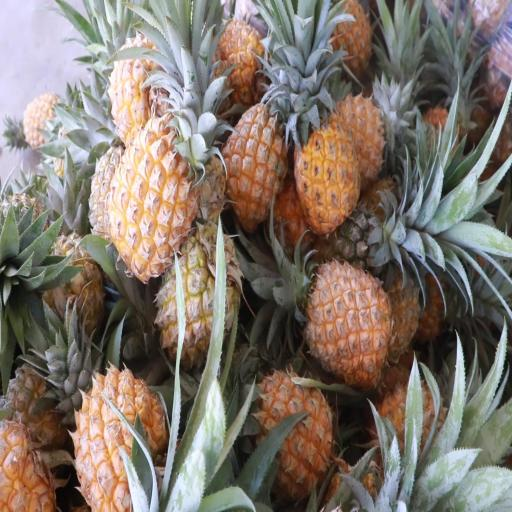------------------------------: (160, 236, 237, 364)
Pineapple - v8 v1: (78, 368, 163, 512), (114, 127, 198, 271), (304, 266, 389, 380), (251, 376, 334, 491), (220, 103, 290, 225), (295, 125, 360, 234), (109, 44, 172, 138), (216, 21, 267, 89)
